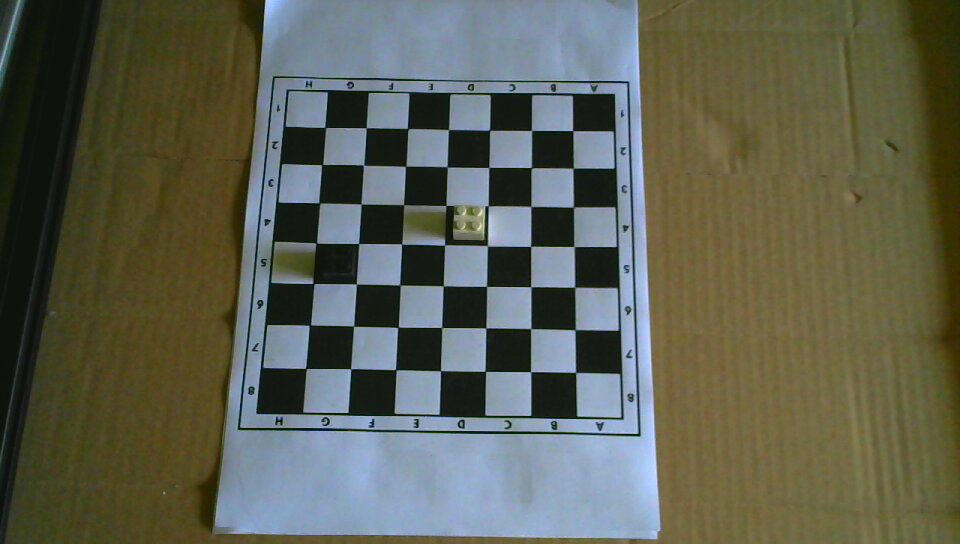bp: (320, 245, 356, 280)
wp: (451, 204, 487, 242)
